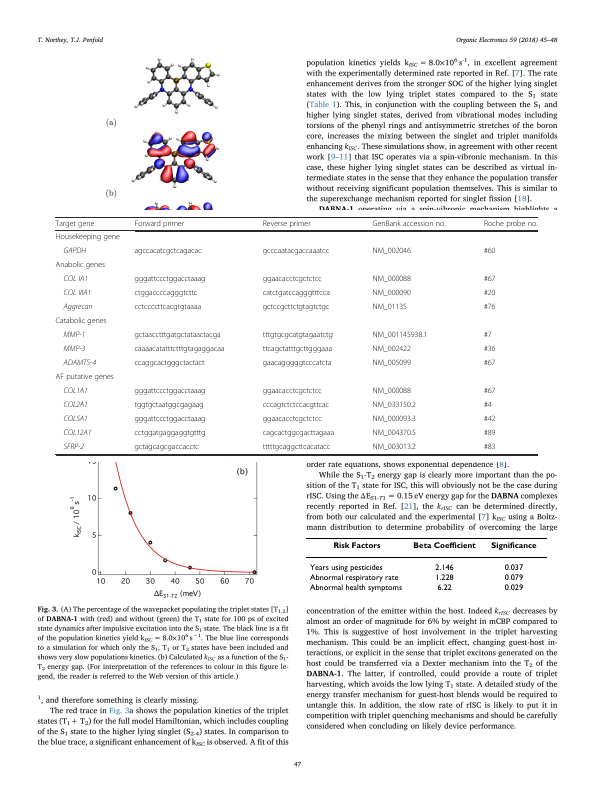borderless: (54, 215, 537, 454), (304, 536, 548, 601)
cell: (309, 583, 403, 593), (133, 344, 225, 354), (309, 573, 399, 583), (133, 330, 222, 340), (133, 274, 206, 284), (133, 386, 206, 396), (133, 414, 206, 424), (133, 428, 206, 438), (262, 428, 335, 438), (262, 330, 334, 340), (133, 358, 205, 368), (133, 400, 205, 410), (262, 344, 333, 354), (133, 246, 203, 256), (262, 358, 332, 368), (262, 288, 331, 298), (133, 302, 202, 312), (262, 442, 331, 452), (262, 246, 330, 256), (262, 302, 330, 312), (262, 400, 330, 410), (372, 219, 447, 228), (133, 442, 200, 452), (309, 563, 383, 572), (55, 232, 121, 242), (133, 288, 198, 298), (262, 274, 323, 284), (54, 372, 115, 382), (262, 386, 323, 396), (262, 414, 323, 424), (412, 541, 476, 550), (372, 330, 428, 340), (55, 316, 107, 326), (55, 260, 106, 270), (483, 219, 538, 228), (133, 219, 185, 228), (372, 400, 417, 410), (372, 414, 417, 424), (372, 428, 417, 438), (372, 442, 417, 452), (332, 541, 381, 550), (262, 219, 311, 228), (490, 541, 537, 550), (372, 246, 412, 256), (372, 274, 412, 284), (372, 288, 412, 298), (372, 344, 412, 354), (372, 358, 412, 368), (372, 386, 412, 396), (55, 219, 95, 228), (372, 302, 408, 312), (62, 358, 97, 367), (62, 302, 93, 312), (62, 288, 92, 298), (62, 274, 89, 284), (62, 428, 92, 437), (62, 246, 87, 256), (62, 386, 89, 395), (62, 400, 89, 409), (62, 414, 89, 423), (62, 330, 86, 339), (62, 344, 86, 353), (503, 573, 524, 583), (503, 583, 524, 593), (62, 442, 85, 451), (434, 573, 454, 583), (503, 563, 524, 572), (434, 563, 454, 572), (436, 583, 452, 593), (483, 246, 496, 256), (483, 274, 496, 284), (483, 288, 496, 298), (483, 302, 496, 312), (483, 344, 496, 354), (483, 358, 496, 368), (483, 386, 496, 396), (483, 414, 496, 424), (483, 428, 496, 438), (483, 442, 496, 452), (483, 330, 492, 340), (483, 400, 492, 410)
